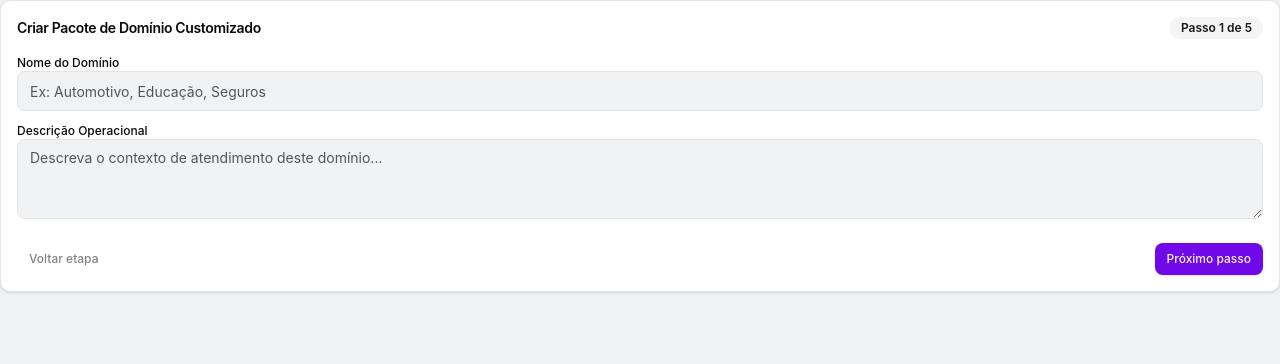
DomainCreateWizard › validates required name before advancing from step 1
What coordinates should you click on to do the following:
click the button "Próximo passo"
I would click on:
 (1209, 259)
Its box is top-left (1154, 243), bottom-right (1263, 275).
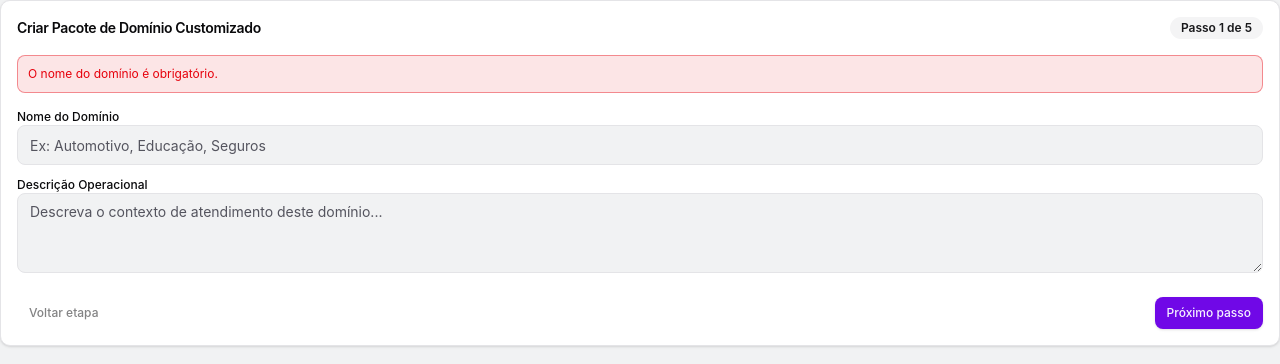
expect the message shows "nome do domínio é obrigatório": met, box top-left (28, 66), bottom-right (218, 81)
